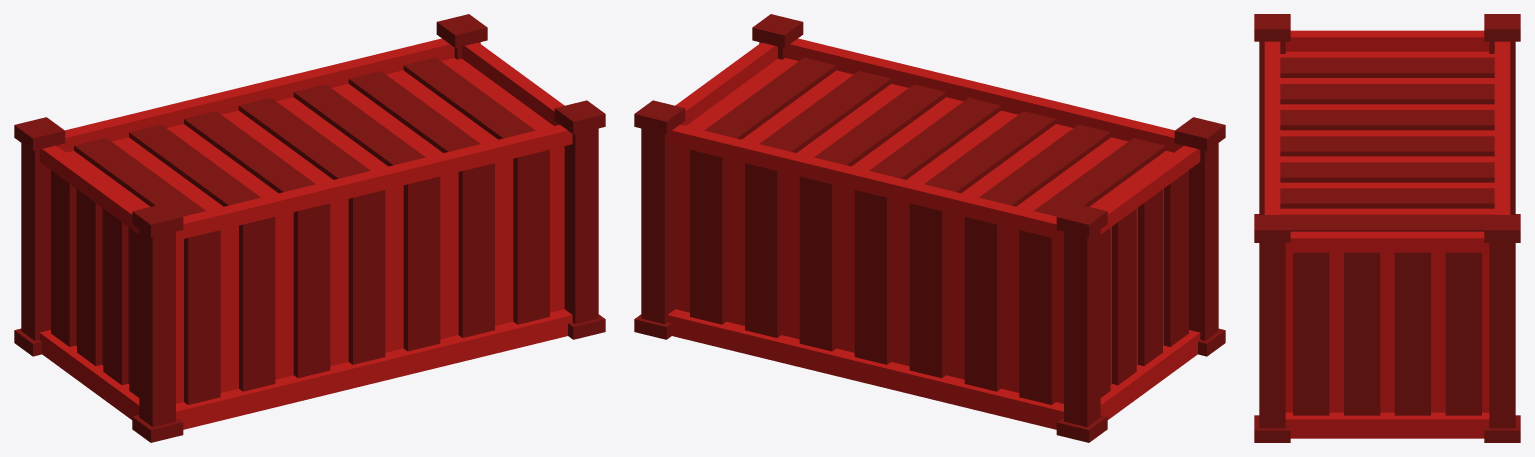
Rendered from container.fbx.
3 renders of one model, left to right at view 1: azimuth 30°, elevation 25°; view 2: azimuth 150°, elevation 25°; view 3: azimuth 270°, elevation 25°, orthographic. The views are drawn at different scales.
Parts seen in each view (by area): view 1: container; view 2: container; view 3: container.
Part boxes in pixels (x1,y1,x2,y2): container: [14, 14, 605, 442]; container: [634, 14, 1225, 442]; container: [1254, 14, 1520, 442].
Size of the model in its own units: 354 by 162 by 184.
